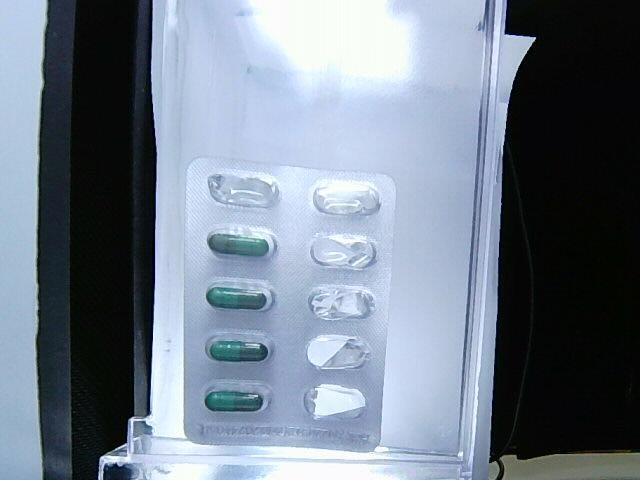Light Front: (183, 158, 398, 454)
No Pill Front: (208, 174, 279, 207), (309, 285, 375, 320), (311, 234, 376, 269), (308, 335, 370, 368), (314, 183, 380, 214), (305, 385, 365, 418)
Pill Front: (206, 334, 272, 370), (205, 278, 273, 311), (206, 229, 274, 262), (203, 379, 271, 412)
